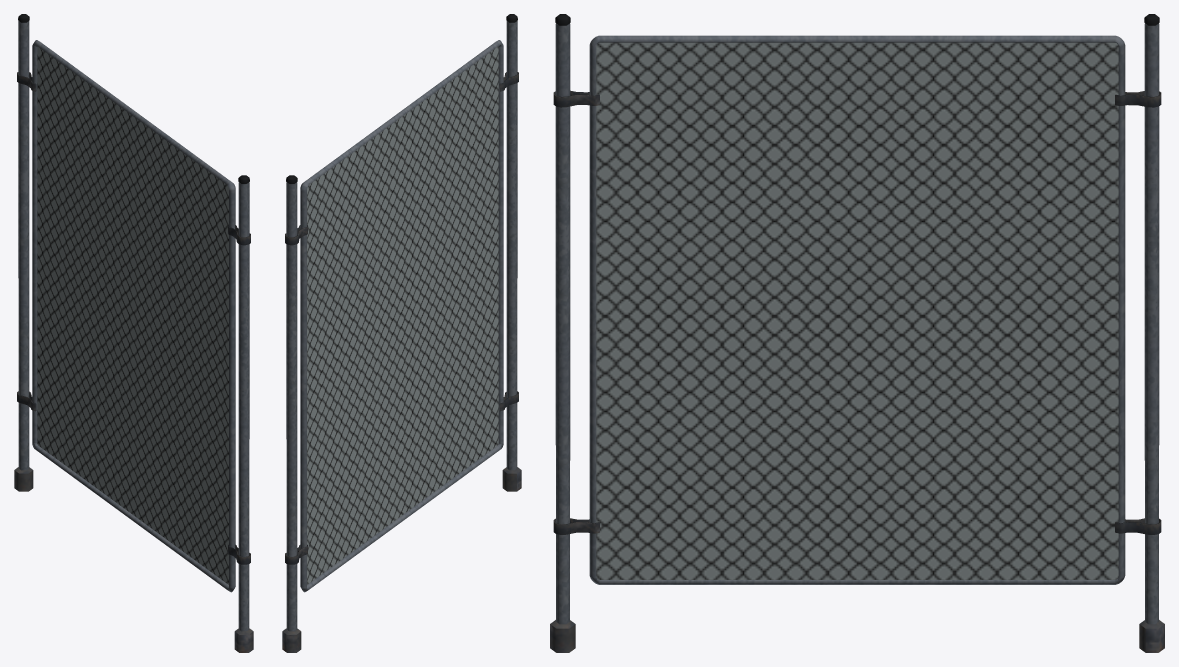
Rendered from Fence_B_E_Big.fbx.
3 renders of one model, left to right at view 1: azimuth 30°, elevation 25°; view 2: azimuth 150°, elevation 25°; view 3: azimuth 270°, elevation 25°, orthographic. The views are drawn at different scales.
Visible parts, largest first — view 1: Fence_B_E_Big; view 2: Fence_B_E_Big; view 3: Fence_B_E_Big.
Boxes of the visible parts, <box> form: Fence_B_E_Big: <box>14,14,253,652</box>; Fence_B_E_Big: <box>282,14,521,652</box>; Fence_B_E_Big: <box>550,14,1164,652</box>.
Bounding box in the file's own units: 6.83 × 216 × 190.
